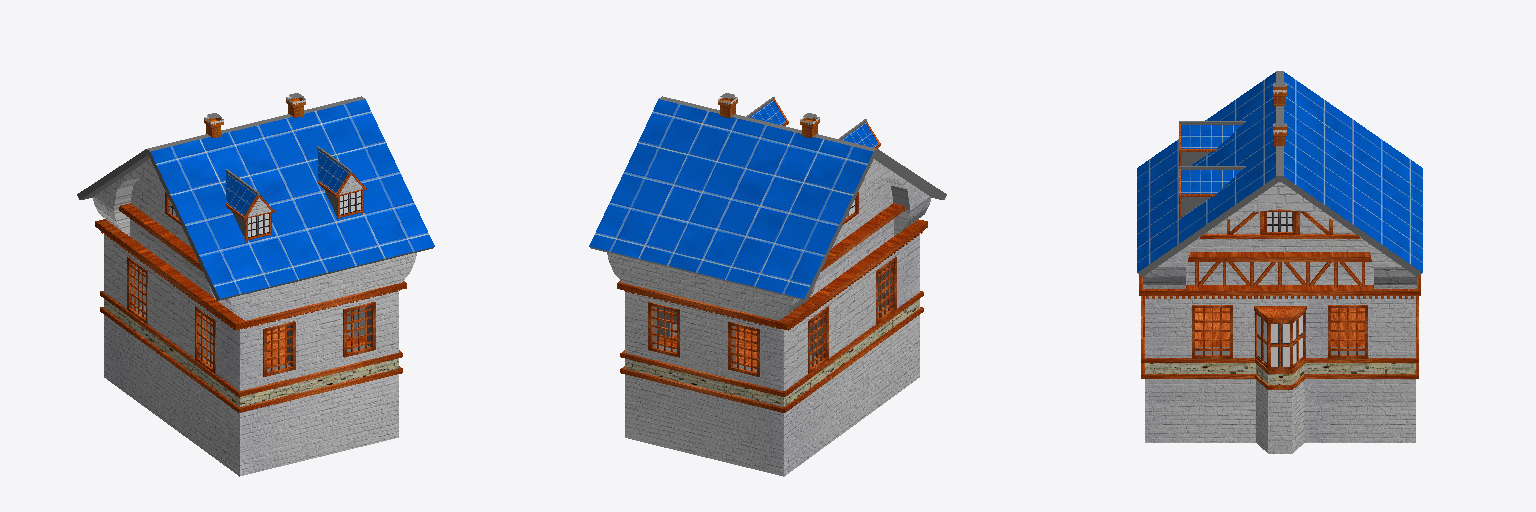
The picture shows the model from 3 angles: view 1: azimuth 30°, elevation 25°; view 2: azimuth 150°, elevation 25°; view 3: azimuth 270°, elevation 25°; orthographic projection.
Visible parts, largest first — view 1: Object.1; view 2: Object.1; view 3: Object.1.
Part boxes in pixels (bbox=[...]): Object.1: bbox=[77, 93, 434, 476]; Object.1: bbox=[589, 93, 946, 476]; Object.1: bbox=[1137, 71, 1422, 453].
Bounding box in the file's own units: 29.9 × 39.93 × 34.37.
Materials: 7 (6 with a texture image).